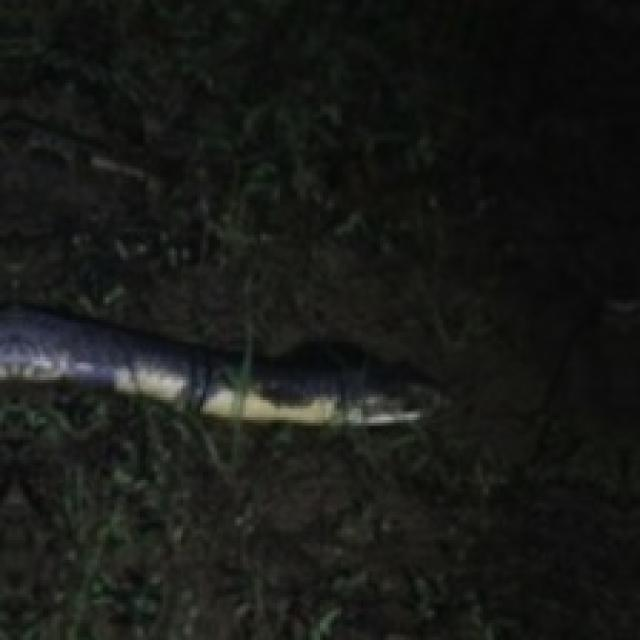king cobra: (0, 306, 440, 423)
